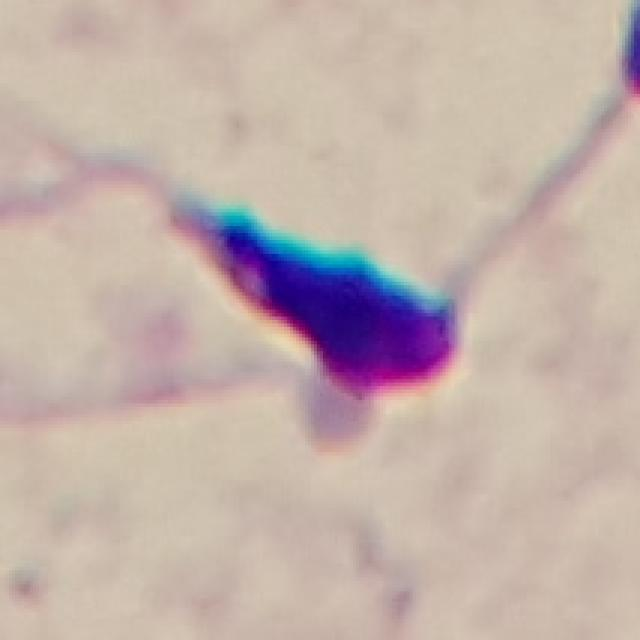abnormal sperm: (48, 151, 467, 416)
